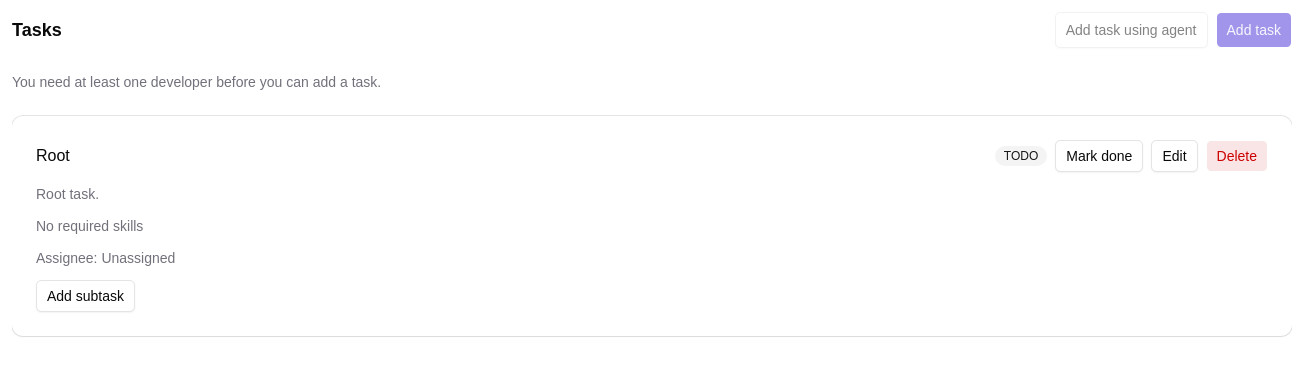
Test: TasksPage › shows leaf-up guidance and keeps the previous status when SUBTASKS_INCOMPLETE is returned
Expected: the text "Root" is shown, [36,144,70,168]
Click the button "Mark done" at x=1099, y=156, box [1055,140,1144,172]
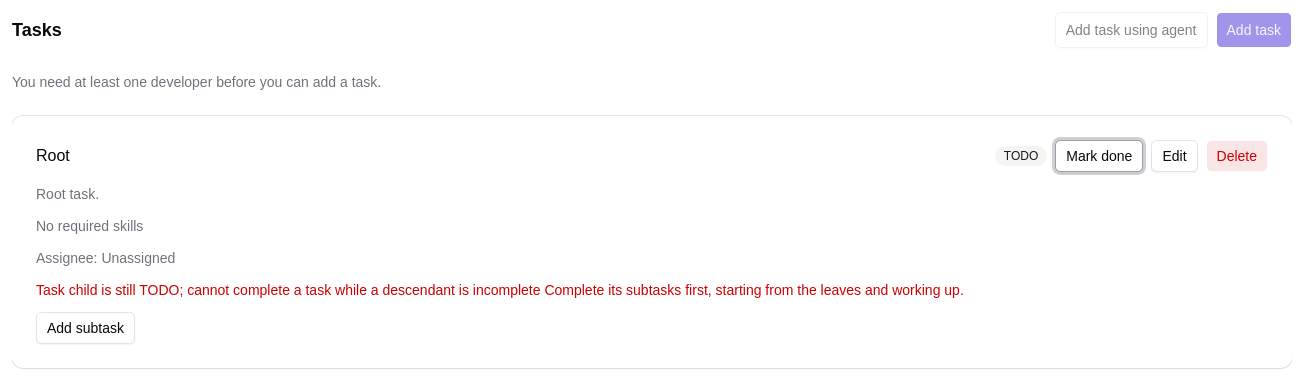
Expected: the icon "TODO" is shown, [995,146,1047,166]
Expected: the text "Task child is still TODO; cannot complete a task while a descendant is incomplete Complete its subtasks first, starting " is shown, [36,282,964,298]
